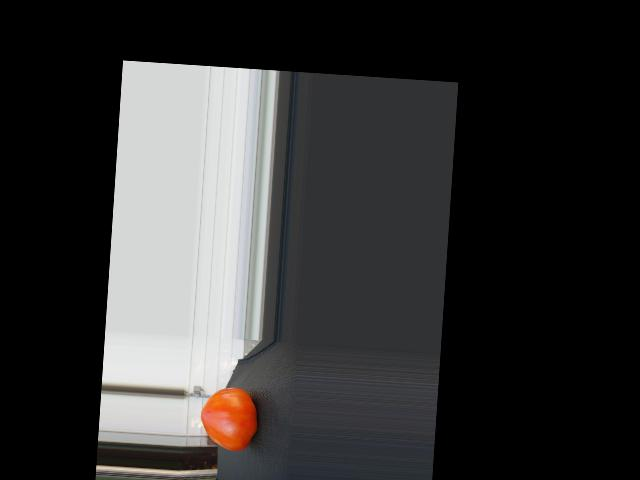tomato: (198, 385, 259, 452)
